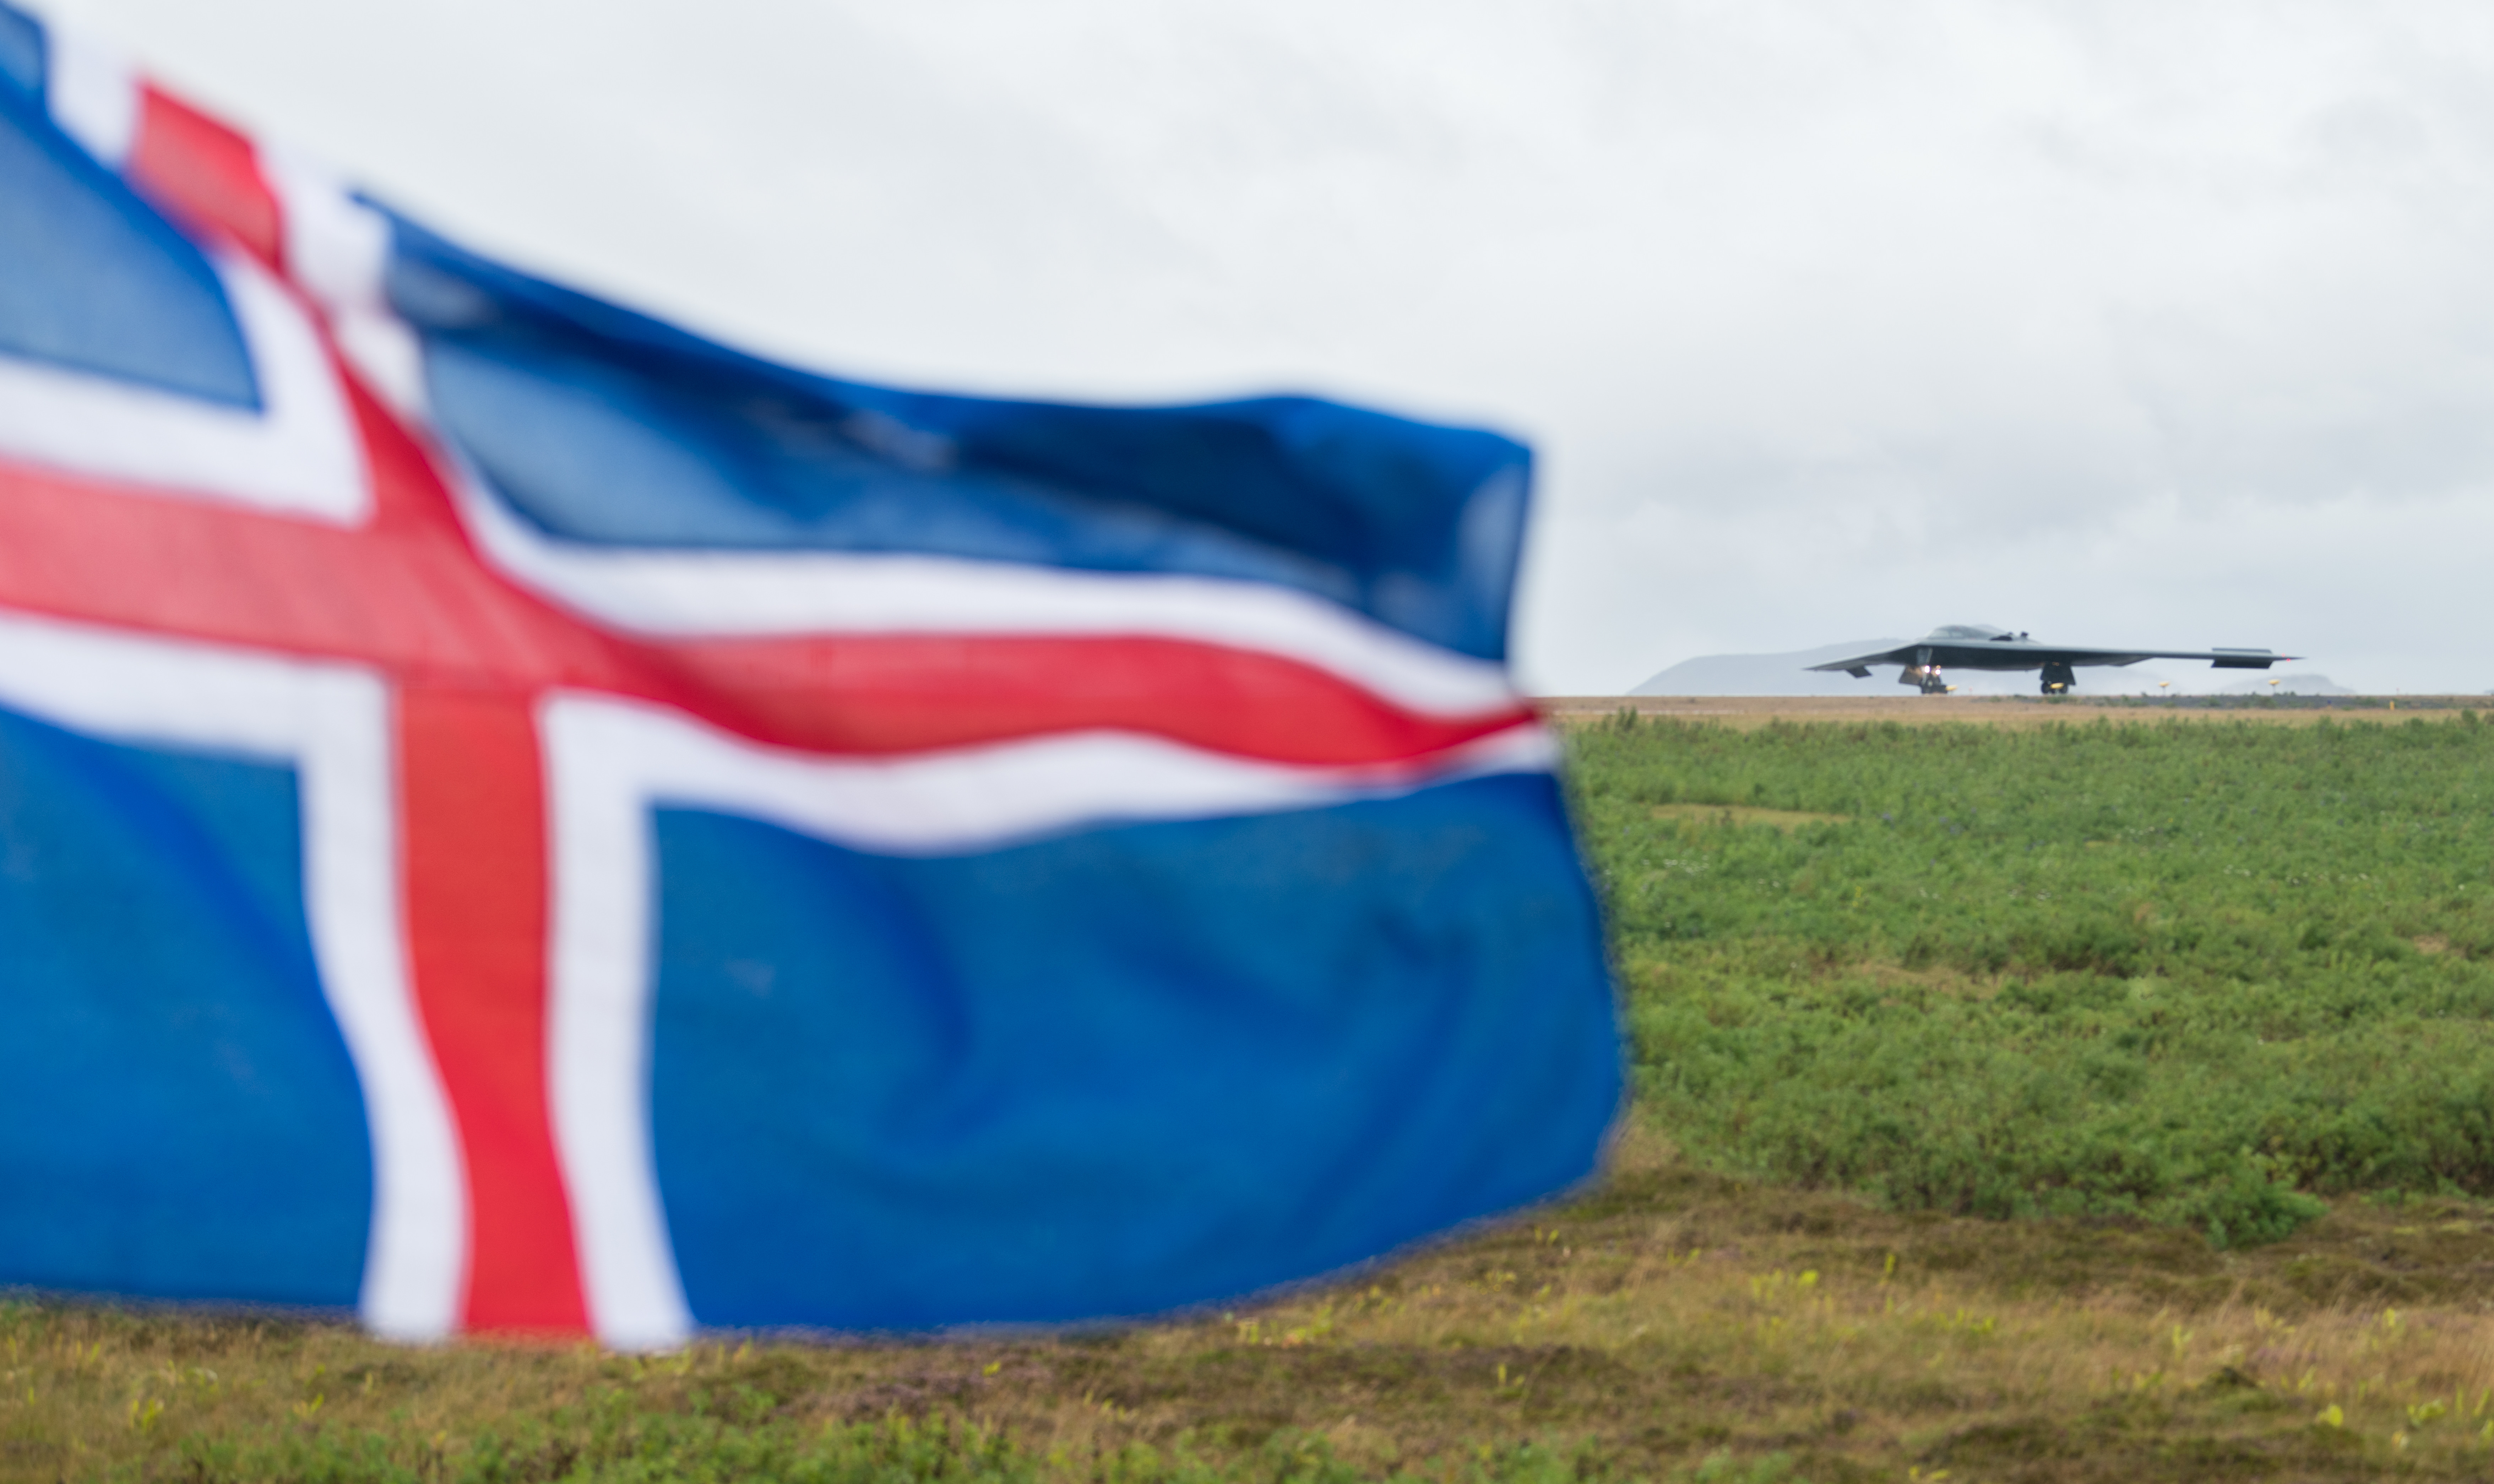B2: (1798, 624, 2309, 696)
